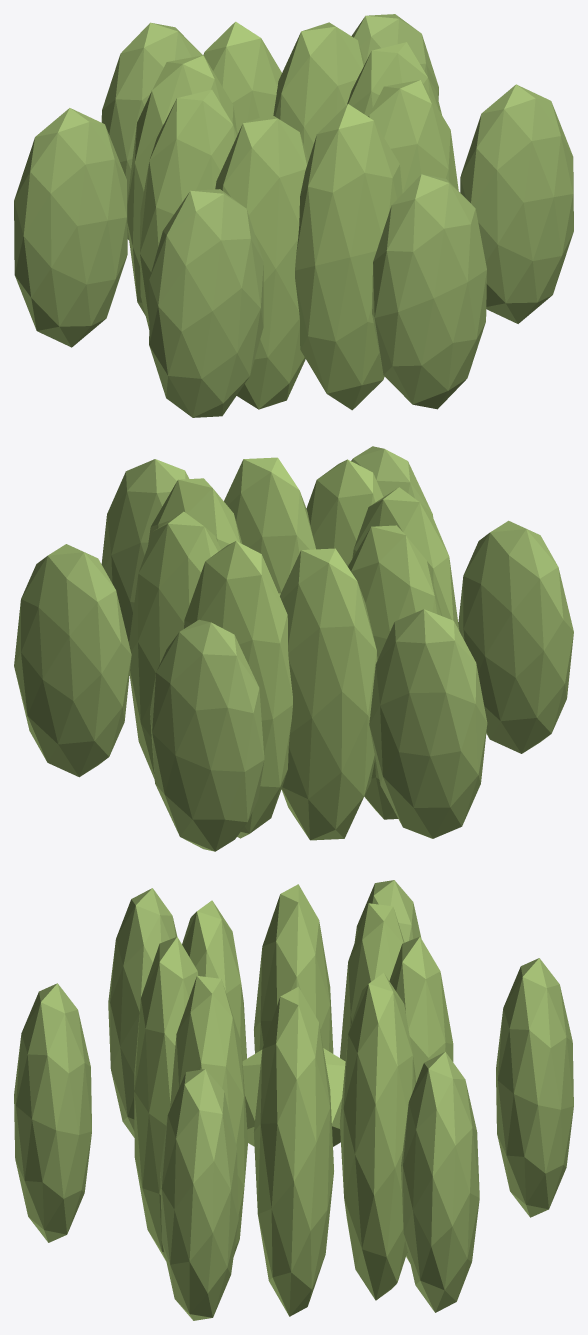
File: kalanchoe-pinnata.glb
3 renders of one model, top to bottom at view 1: azimuth 30°, elevation 25°; view 2: azimuth 150°, elevation 25°; view 3: azimuth 270°, elevation 25°, orthographic. The views are drawn at different scales.
Parts seen in each view (by area): view 1: leaf02, leaf12, leaf13, leaf11, leaf10, leaf03, leaf04, leaf07, leaf01, leaf14, leaf05, leaf06 (+2 smaller); view 2: leaf05, leaf13, leaf15, leaf14, leaf12, leaf06, leaf07, leaf04, leaf01, leaf10, leaf02, leaf03 (+2 smaller); view 3: leaf00, leaf07, leaf15, leaf11, leaf14, leaf10, leaf02, leaf04, leaf12, leaf01, leaf06, leaf05 (+3 smaller).
Boxes of the visible parts, x1,y1,x2,y2 form: leaf02: (295,104,402,410); leaf12: (149,189,263,417); leaf13: (14,108,127,347); leaf11: (372,174,486,409); leaf10: (460,84,573,323); leaf03: (215,114,308,409); leaf04: (140,89,238,329); leaf07: (273,22,364,159); leaf01: (368,80,458,193); leaf14: (101,22,202,239); leaf05: (127,55,236,315); leaf06: (203,21,281,132); leaf05: (280,548,377,840); leaf13: (369,609,487,838); leaf15: (14,544,131,777); leaf14: (150,619,264,851); leaf12: (458,520,573,753); leaf06: (184,541,292,838); leaf07: (129,511,220,778); leaf04: (348,525,442,819); leaf01: (224,457,315,593); leaf10: (101,459,189,642); leaf02: (306,459,383,566); leaf03: (352,487,459,630); leaf00: (253,987,333,1316); leaf07: (339,973,415,1300); leaf15: (401,1051,479,1312); leaf11: (14,983,91,1242); leaf14: (496,958,573,1217); leaf10: (160,1069,238,1320); leaf02: (134,937,198,1260); leaf04: (254,884,333,1053); leaf12: (108,888,177,1137); leaf01: (170,976,248,1256); leaf06: (389,937,453,1263); leaf05: (340,903,404,1061).
Size of the model in its own units: 0.2868 by 0.1788 by 0.2768.
